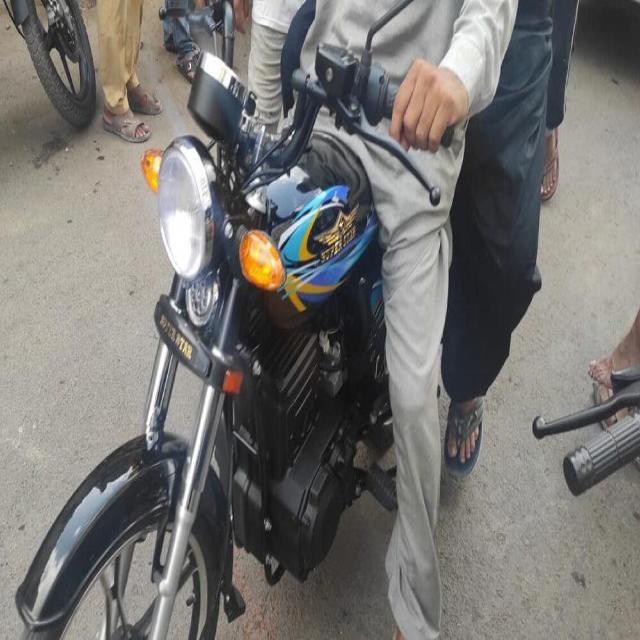motorcycle: (9, 30, 468, 640)
